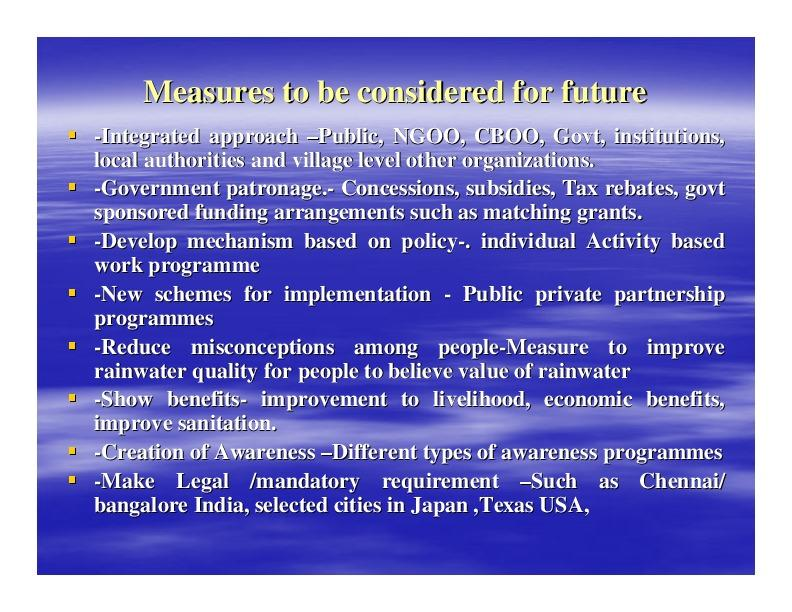paragraph: (53, 115, 746, 532)
title: (132, 55, 673, 117)
